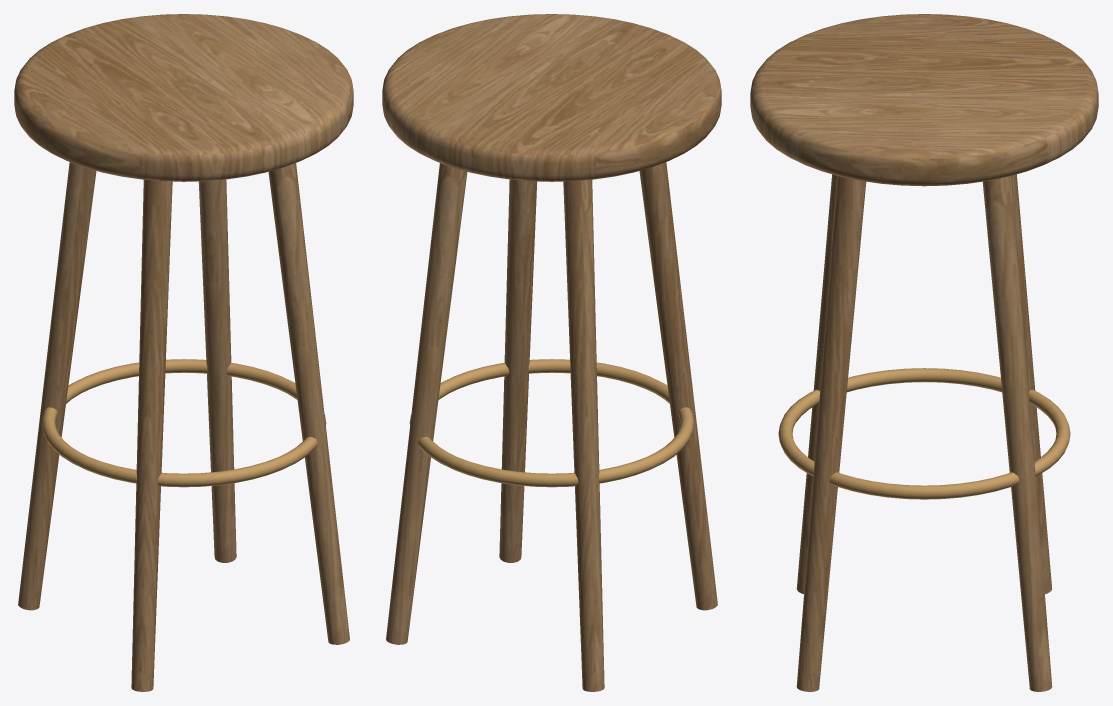
Rendered from bar_stool.glb.
The picture shows the model from 3 angles, left to right: view 1: azimuth 30°, elevation 25°; view 2: azimuth 150°, elevation 25°; view 3: azimuth 270°, elevation 25°; orthographic projection. The views are drawn at different scales.
Visible parts, largest first — view 1: bar_stool; view 2: bar_stool; view 3: bar_stool.
Boxes of the visible parts, <box> form: bar_stool: <box>14,14,353,691</box>; bar_stool: <box>382,14,721,691</box>; bar_stool: <box>750,14,1098,691</box>.
Bounding box in the file's own units: 0.37 × 0.6514 × 0.37.
Materials: 2 (1 with a texture image).
